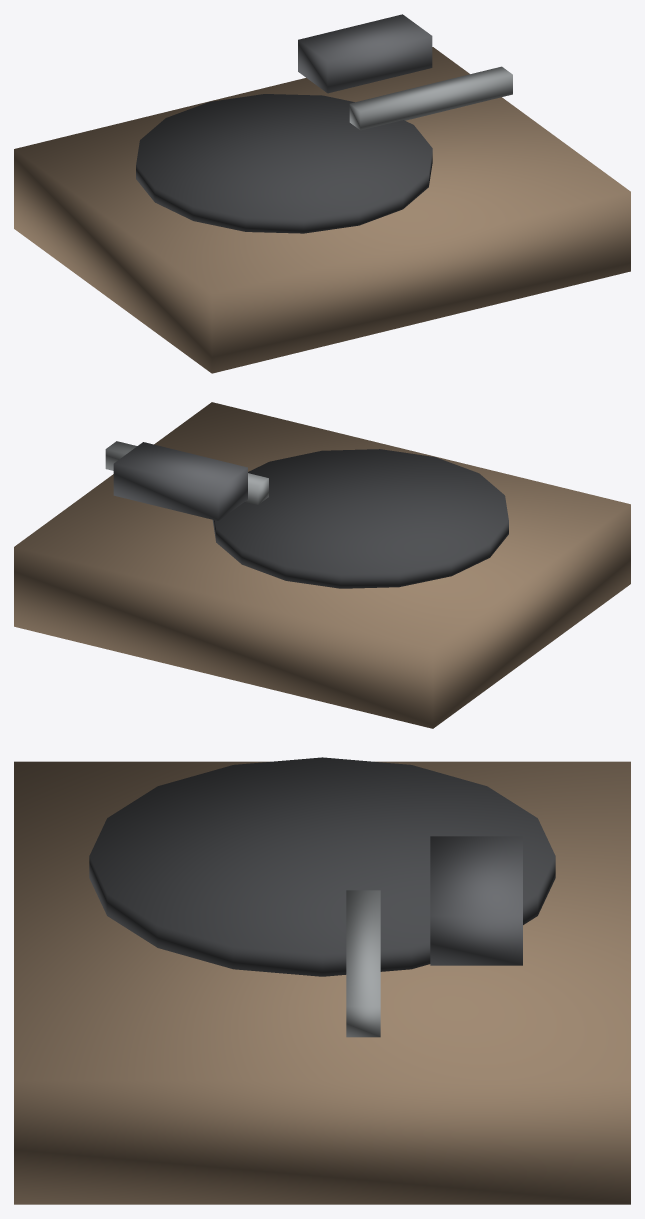
The model's file is record_player__service.glb.
The picture shows the model from 3 angles, top to bottom: view 1: azimuth 30°, elevation 25°; view 2: azimuth 150°, elevation 25°; view 3: azimuth 270°, elevation 25°; orthographic projection. The views are drawn at different scales.
Parts seen in each view (by area): view 1: world; view 2: world; view 3: world.
Part boxes in pixels (x1,y1,x2,y2): world: [14, 14, 630, 373]; world: [14, 402, 630, 728]; world: [14, 757, 630, 1204].
Size of the model in its own units: 0.55 by 0.1925 by 0.45.
